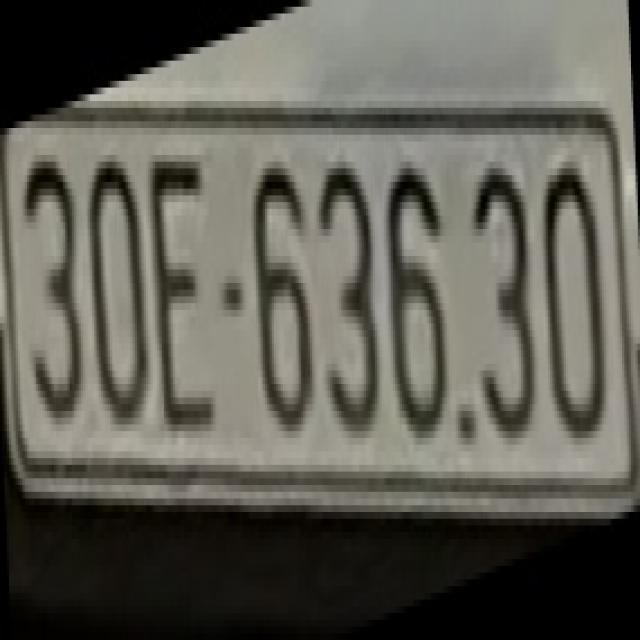0: (544, 155, 608, 445), (88, 142, 150, 432)
3: (469, 155, 537, 438), (316, 148, 379, 438), (22, 148, 84, 424)
6: (384, 155, 449, 438), (250, 155, 314, 431)
E: (148, 148, 216, 431)
